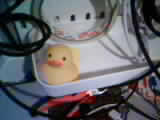duck: (36, 35, 74, 80)
